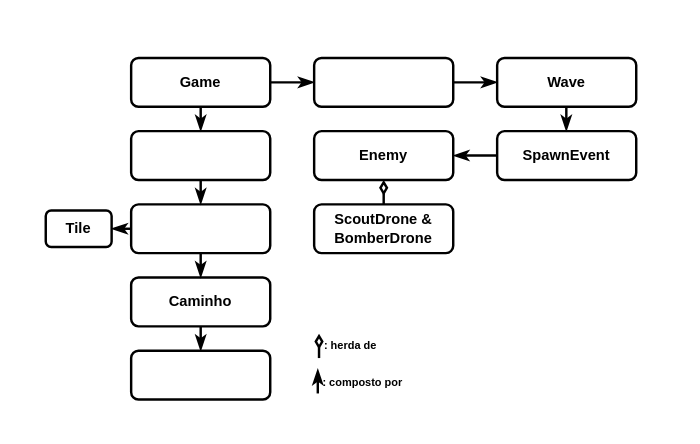
This 700x444 diagram has some shape labels left out. Here are the shapes that lost their labels. From the top down, the centre of each, then its label:
At point 383,81: "WaveManager".
At point 200,155: "ConsoleUI".
At point 200,228: "GridMap".
At point 200,374: "Ponto".
